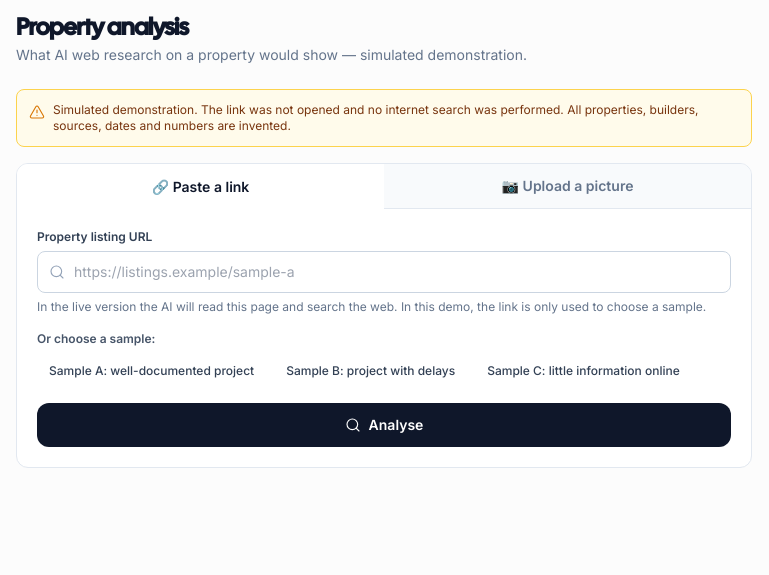
Test: PropertyAnalysisPage – demo mode › progress log shows simulated steps with aria-live
Click the button "Sample A: well-documented project" at (152, 371), box [37,355,266,387]
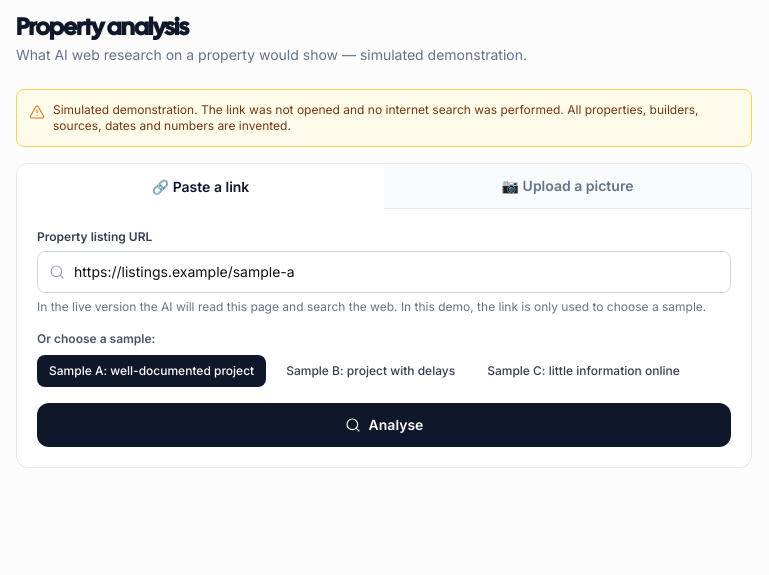
Click the button "Analyse" at (384, 425), box [37,403,731,447]
Wait 500 ms
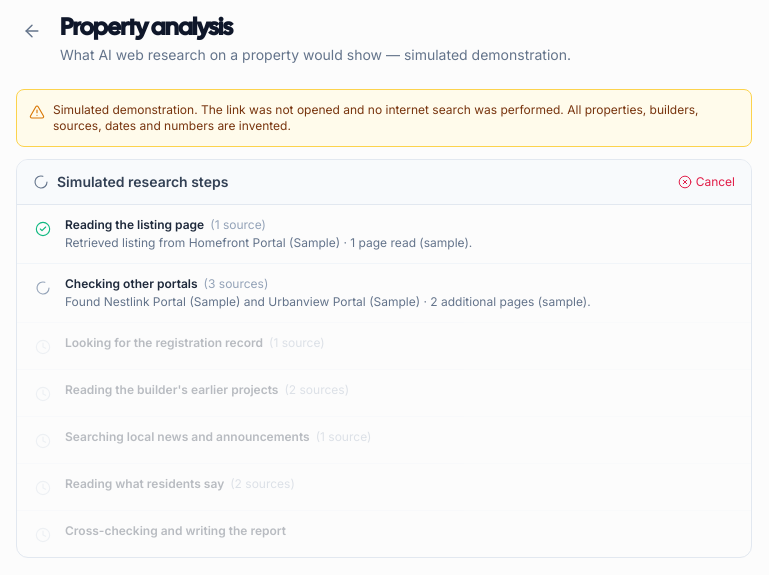
Check: the text "Simulated research steps" is shown, box [57,172,228,192]
Check: the list named "Simulated research steps" is shown, box [17,205,751,557]
